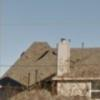chimneys: (57, 38, 71, 76)
